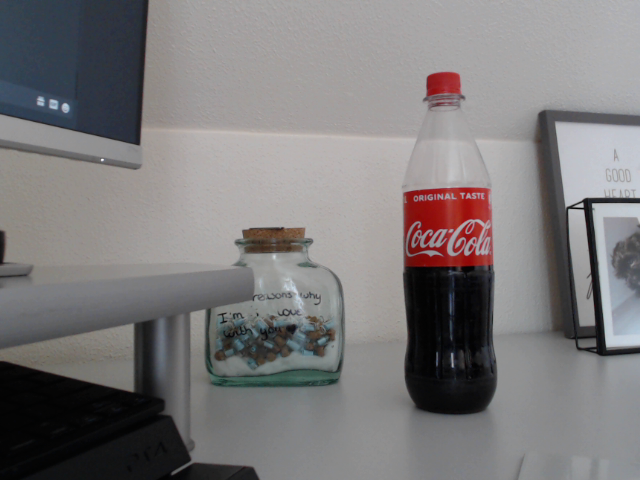bottle: (401, 72, 499, 415)
